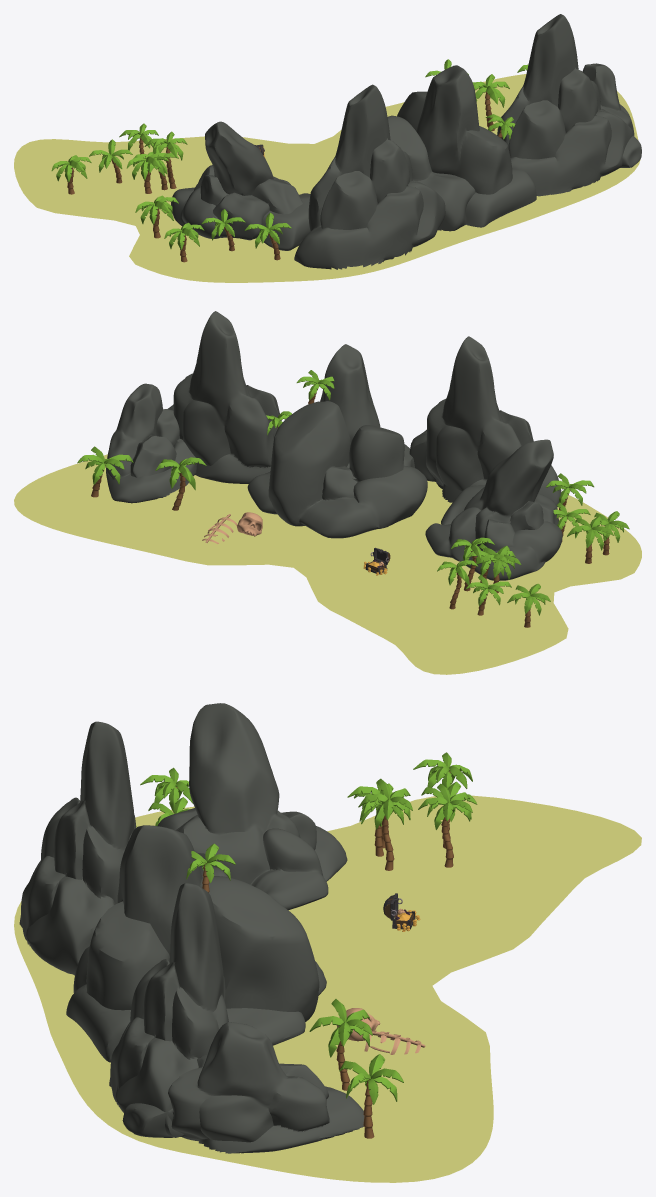
The model's file is Gameboard-8.glb.
The picture shows the model from 3 angles, top to bottom: view 1: azimuth 30°, elevation 25°; view 2: azimuth 150°, elevation 25°; view 3: azimuth 270°, elevation 25°; orthographic projection. The views are drawn at different scales.
Visible parts, largest first — view 1: Circle, Environment_Cliff3, Environment_Cliff3.001, Environment_Cliff2, Environment_Cliff4, Environment_Cliff3.002, Environment_PalmTree_3.004, Environment_PalmTree_1.006, Environment_PalmTree_2.004, Environment_PalmTree_1.002, Environment_PalmTree_3.002, Environment_PalmTree_3.003 (+6 smaller); view 2: Circle, Environment_Cliff2, Environment_Cliff3.001, Environment_Cliff3, Environment_Cliff4, Environment_Cliff3.002, Environment_PalmTree_2.006, Environment_PalmTree_1.006, Environment_PalmTree_3.004, Environment_PalmTree_3, Environment_PalmTree_3.002, Environment_PalmTree_2.004 (+5 smaller); view 3: Circle, Environment_Cliff2, Environment_Cliff4, Environment_Cliff3.002, Environment_Cliff3, Environment_Cliff3.001, Environment_PalmTree_1.006, Environment_PalmTree_2.006, Environment_PalmTree_1.002, Environment_PalmTree_1, Environment_PalmTree_3, Environment_PalmTree_3.003 (+2 smaller).
Part boxes in pixels (box(x1,y1,x2,y2)): Circle: box(14, 74, 640, 282); Environment_Cliff3: box(294, 84, 445, 269); Environment_Cliff3.001: box(497, 14, 633, 196); Environment_Cliff2: box(387, 65, 536, 231); Environment_Cliff4: box(171, 121, 310, 250); Environment_Cliff3.002: box(582, 63, 641, 167); Environment_PalmTree_3.004: box(135, 195, 178, 238); Environment_PalmTree_1.006: box(472, 74, 509, 131); Environment_PalmTree_2.004: box(244, 212, 291, 260); Environment_PalmTree_1.002: box(144, 131, 187, 188); Environment_PalmTree_3.002: box(126, 151, 169, 193); Environment_PalmTree_3.003: box(164, 222, 204, 262); Circle: box(14, 454, 641, 674); Environment_Cliff2: box(247, 344, 427, 538); Environment_Cliff3.001: box(168, 311, 281, 483); Environment_Cliff3: box(409, 336, 561, 506); Environment_Cliff4: box(425, 439, 562, 580); Environment_Cliff3.002: box(106, 383, 196, 503); Environment_PalmTree_2.006: box(77, 446, 133, 497); Environment_PalmTree_1.006: box(155, 457, 206, 510); Environment_PalmTree_3.004: box(567, 516, 613, 563); Environment_PalmTree_3: box(507, 583, 550, 627); Environment_PalmTree_3.002: box(474, 546, 521, 593); Environment_PalmTree_2.004: box(546, 473, 594, 516); Circle: box(14, 795, 641, 1182); Environment_Cliff2: box(66, 825, 326, 1062); Environment_Cliff4: box(157, 703, 347, 909); Environment_Cliff3.002: box(122, 1022, 364, 1153); Environment_Cliff3: box(19, 721, 135, 975); Environment_Cliff3.001: box(109, 883, 228, 1137); Environment_PalmTree_1.006: box(309, 999, 372, 1090); Environment_PalmTree_2.006: box(339, 1054, 403, 1138); Environment_PalmTree_1.002: box(358, 779, 412, 870); Environment_PalmTree_1: box(418, 783, 472, 867); Environment_PalmTree_3: box(413, 752, 472, 788); Environment_PalmTree_3.003: box(140, 767, 193, 812).
Size of what is drawn, in the model's own units: 42.31 by 12.08 by 28.9.
Materials: 4 (3 with a texture image).
